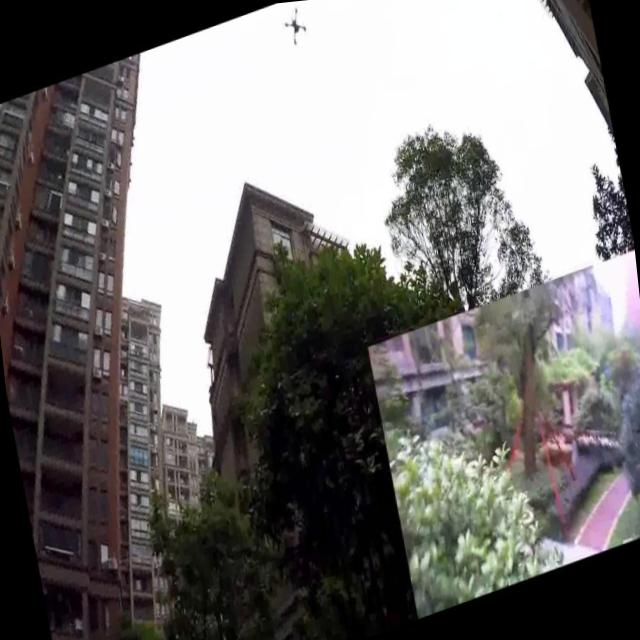drone: (277, 0, 310, 47)
